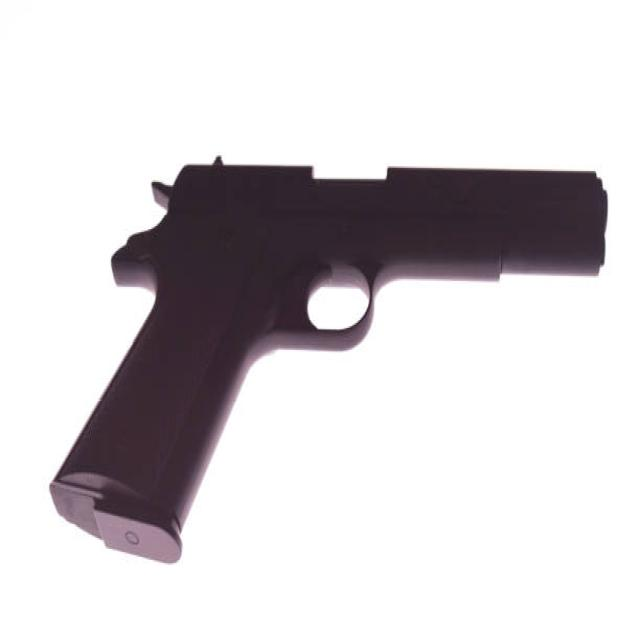pistol: (44, 153, 613, 571)
